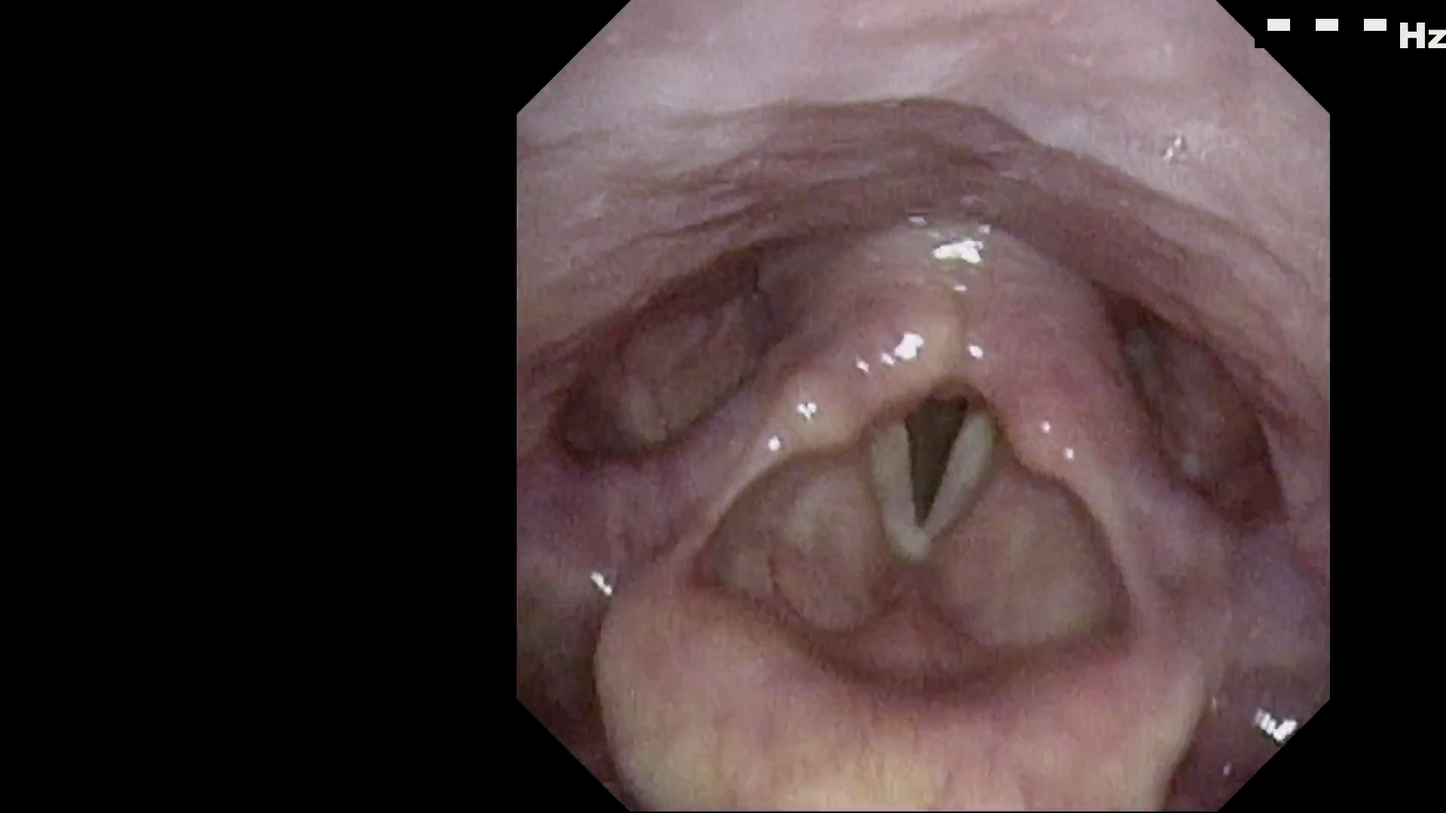epiglottis: (605, 550, 1229, 760)
trachea: (857, 356, 1031, 560)
